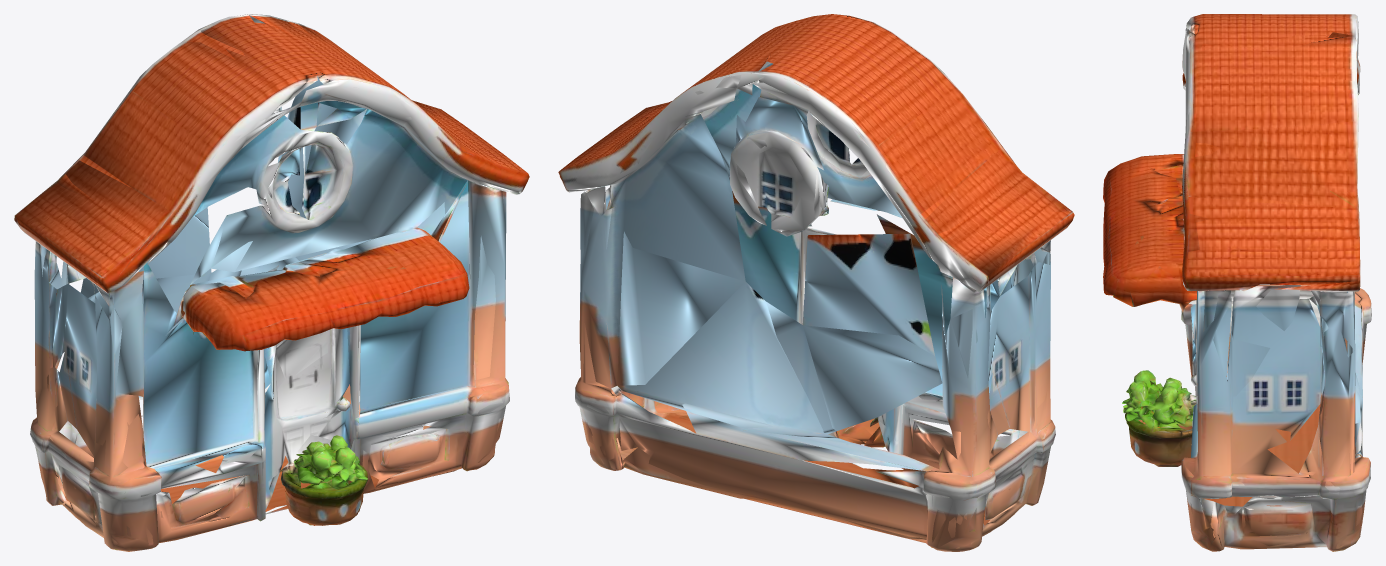
File: shop_b.glb
3 views of the same model, side by side, from view 1: azimuth 30°, elevation 25°; view 2: azimuth 150°, elevation 25°; view 3: azimuth 270°, elevation 25° (orthographic).
Parts seen in each view (by area): view 1: Mesh1.0; view 2: Mesh1.0; view 3: Mesh1.0.
Part boxes in pixels (x1,y1,x2,y2): Mesh1.0: [14, 14, 529, 551]; Mesh1.0: [558, 14, 1074, 551]; Mesh1.0: [1103, 14, 1371, 551].
Bounding box in the file's own units: 1.9 × 1.84 × 1.03.
Materials: 1 (1 with a texture image).
